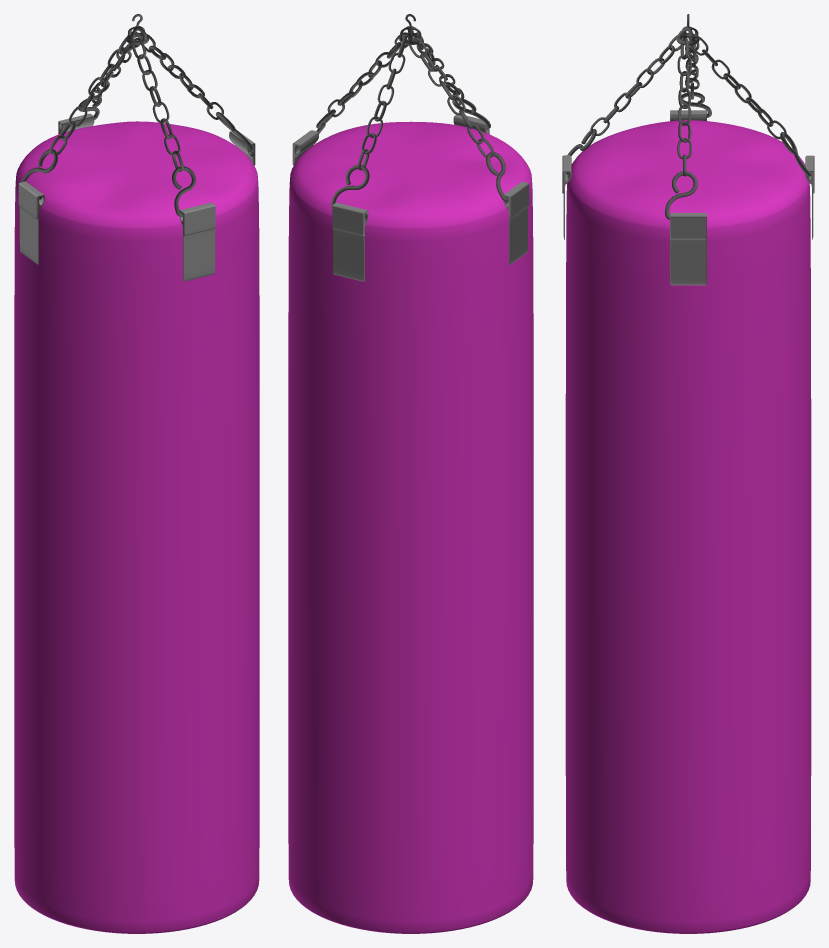
The model's file is PunchingBag.fbx.
3 views of the same model, side by side, from view 1: azimuth 30°, elevation 25°; view 2: azimuth 150°, elevation 25°; view 3: azimuth 270°, elevation 25° (orthographic).
Visible parts, largest first — view 1: heavy_bag_5, heavy_bag_1, heavy_bag_3, heavy_bag_2, heavy_bag_09, heavy_bag_07, heavy_bag_08; view 2: heavy_bag_5, heavy_bag_4, heavy_bag_3, heavy_bag_08, heavy_bag_09, heavy_bag_07, heavy_bag_2; view 3: heavy_bag_5, heavy_bag_6, heavy_bag_07, heavy_bag_08, heavy_bag_2, heavy_bag_09.
Part boxes in pixels (x1,y1,x2,y2): heavy_bag_5: [14, 121, 259, 933]; heavy_bag_1: [180, 202, 215, 281]; heavy_bag_3: [18, 181, 44, 264]; heavy_bag_2: [132, 38, 195, 216]; heavy_bag_09: [21, 35, 131, 199]; heavy_bag_07: [140, 34, 253, 150]; heavy_bag_08: [78, 31, 141, 119]; heavy_bag_5: [288, 121, 533, 933]; heavy_bag_4: [332, 202, 368, 281]; heavy_bag_3: [503, 181, 529, 265]; heavy_bag_08: [331, 37, 407, 207]; heavy_bag_09: [409, 37, 508, 201]; heavy_bag_07: [297, 32, 412, 148]; heavy_bag_2: [414, 32, 490, 128]; heavy_bag_5: [565, 120, 811, 933]; heavy_bag_6: [670, 213, 706, 285]; heavy_bag_07: [665, 38, 697, 219]; heavy_bag_08: [690, 36, 811, 176]; heavy_bag_2: [566, 34, 687, 174]; heavy_bag_09: [681, 32, 711, 117].
Bounding box in the file's own units: 3633 × 13991 × 3633.
